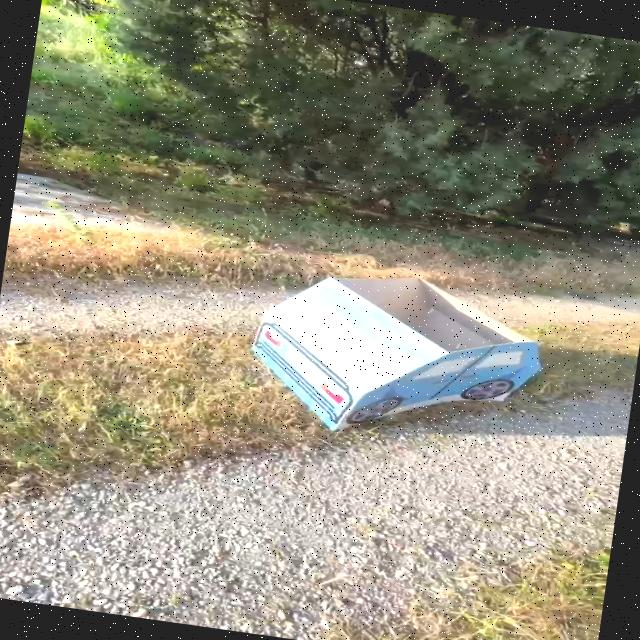blue_car: (196, 234, 581, 485)
